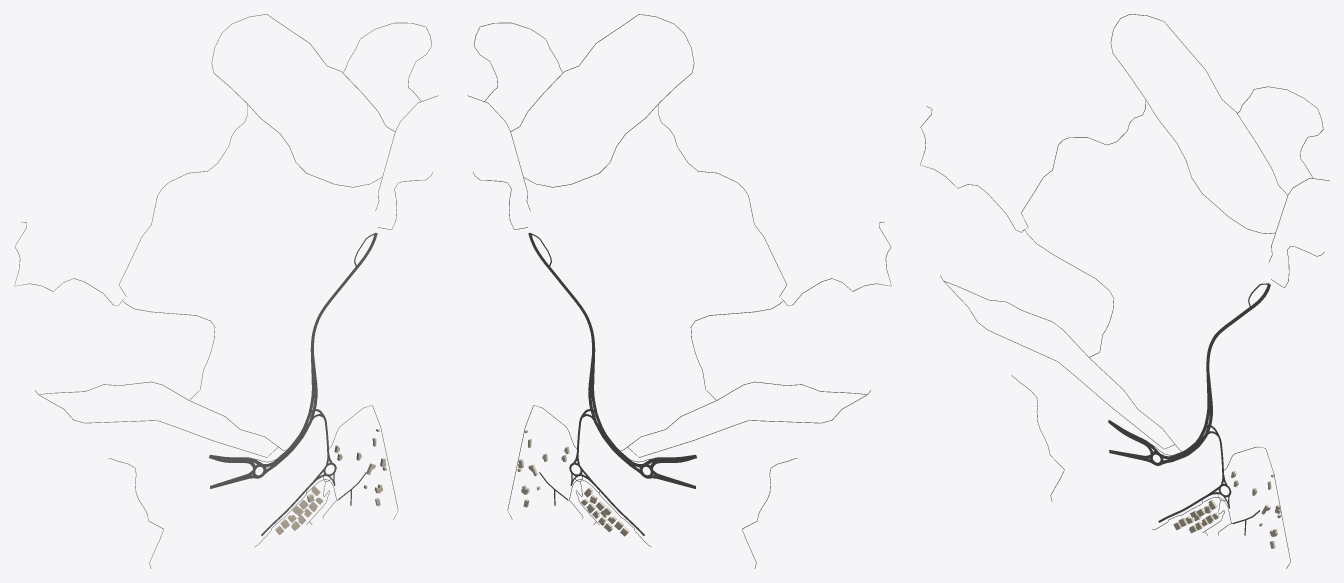
The model's file is historic-palestine-10_34_3523_3283.glb.
3 views of the same model, side by side, from view 1: azimuth 30°, elevation 25°; view 2: azimuth 150°, elevation 25°; view 3: azimuth 330°, elevation 25° (orthographic). The views are drawn at different scales.
Parts seen in each view (by area): view 1: Road .004; view 2: Road .004; view 3: Road .004.
Part boxes in pixels (x1=…): Road .004: x1=211, y1=14, x2=394, y2=187; Road .004: x1=510, y1=14, x2=694, y2=187; Road .004: x1=1110, y1=14, x2=1287, y2=233.
Bounding box in the file's own units: 1091 × 1322 × 8.7.
